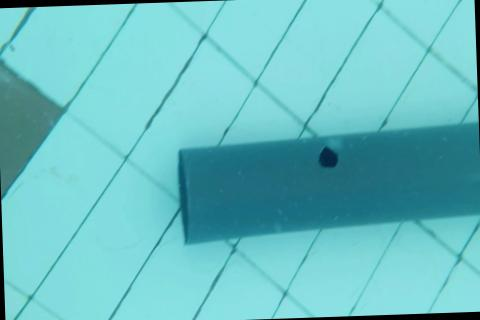kebocoran: (317, 145, 340, 170)
